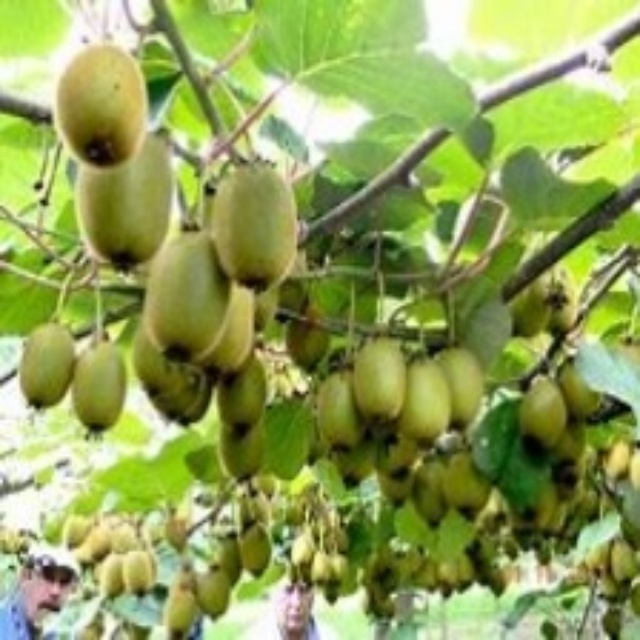kiwi: (315, 345, 487, 448), (212, 143, 305, 286), (73, 146, 171, 268), (145, 227, 230, 364), (56, 38, 144, 167), (524, 366, 609, 469), (66, 344, 134, 438), (205, 350, 276, 438), (18, 320, 79, 409)
